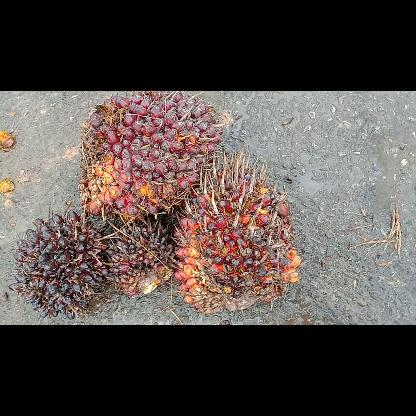TBS abnormal: (6, 207, 112, 318), (104, 215, 180, 295)
TBS masak: (173, 146, 303, 312), (76, 90, 223, 222)
